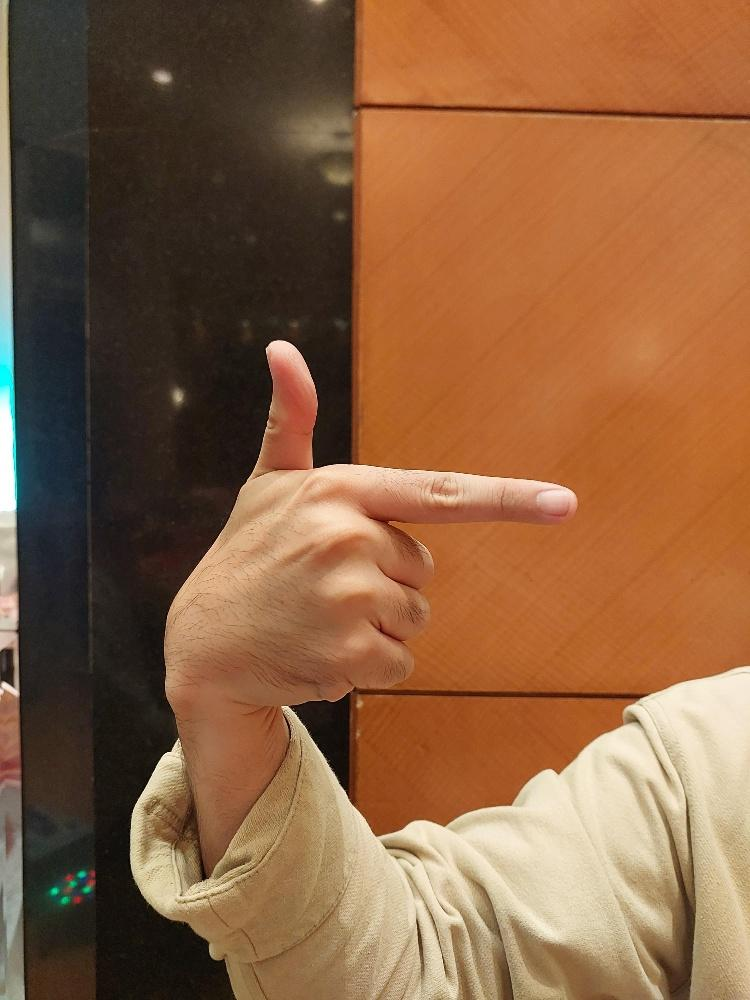g: (159, 336, 580, 710)
